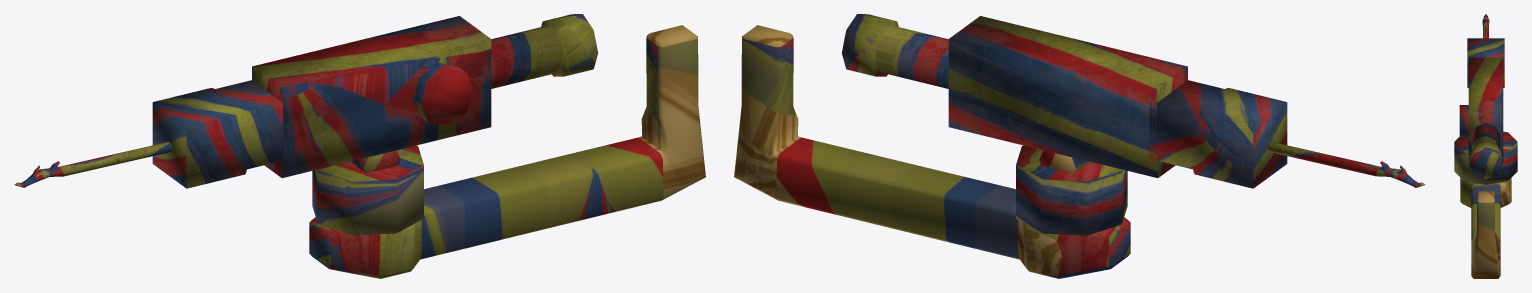
File: turel.fbx
3 renders of one model, left to right at view 1: azimuth 30°, elevation 25°; view 2: azimuth 150°, elevation 25°; view 3: azimuth 270°, elevation 25°, orthographic. The views are drawn at different scales.
Parts seen in each view (by area): view 1: binding_low, turel_low, turel_top_low, down_low, turel_down_low, circle_low, harpoon_low, tower_low; view 2: binding_low, turel_low, turel_top_low, down_low, turel_down_low, harpoon_low, tower_low; view 3: binding_low, turel_low, down_low, turel_down_low, turel_top_low, circle_low, harpoon_low.
Boxes of the visible parts, <box> form: binding_low: <box>309,25,705,278</box>; turel_low: <box>252,16,491,177</box>; turel_top_low: <box>152,80,284,188</box>; down_low: <box>312,145,423,235</box>; turel_down_low: <box>491,14,597,88</box>; circle_low: <box>412,63,474,125</box>; harpoon_low: <box>14,142,172,187</box>; tower_low: <box>350,150,400,173</box>; binding_low: <box>734,25,1130,278</box>; turel_low: <box>948,16,1187,177</box>; turel_top_low: <box>1149,80,1287,188</box>; down_low: <box>1016,145,1127,235</box>; turel_down_low: <box>842,14,948,88</box>; harpoon_low: <box>1267,142,1425,187</box>; tower_low: <box>1039,150,1089,173</box>; binding_low: <box>1460,178,1511,278</box>; turel_low: <box>1468,57,1503,161</box>; down_low: <box>1454,131,1517,184</box>; turel_down_low: <box>1469,123,1502,179</box>; turel_top_low: <box>1467,38,1504,87</box>; circle_low: <box>1459,105,1468,137</box>; harpoon_low: <box>1482,14,1489,38</box>.
Size of the model in its own units: 961 by 280 by 141.
